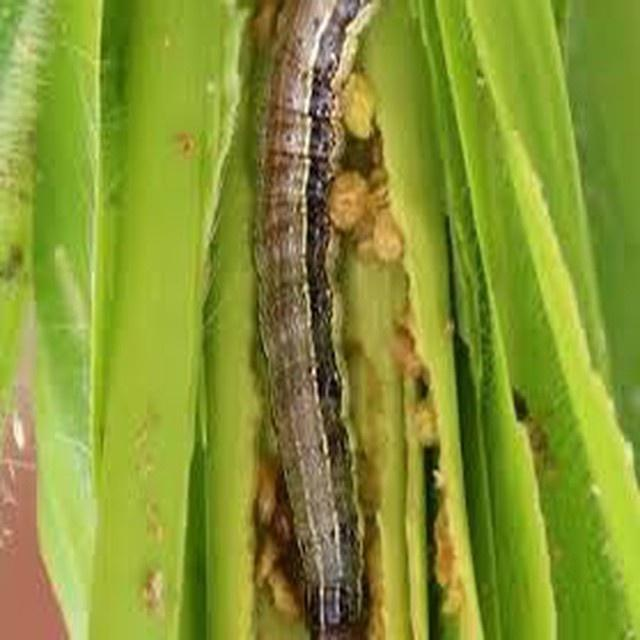Plaga: (270, 1, 378, 638)
